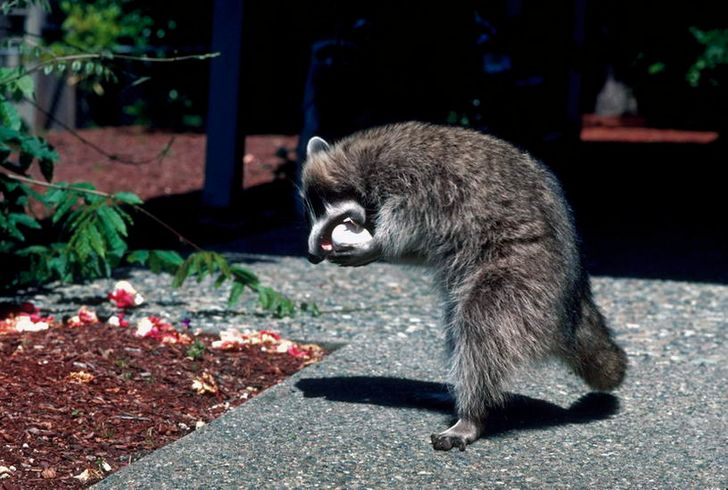raccoon: (288, 119, 626, 435)
